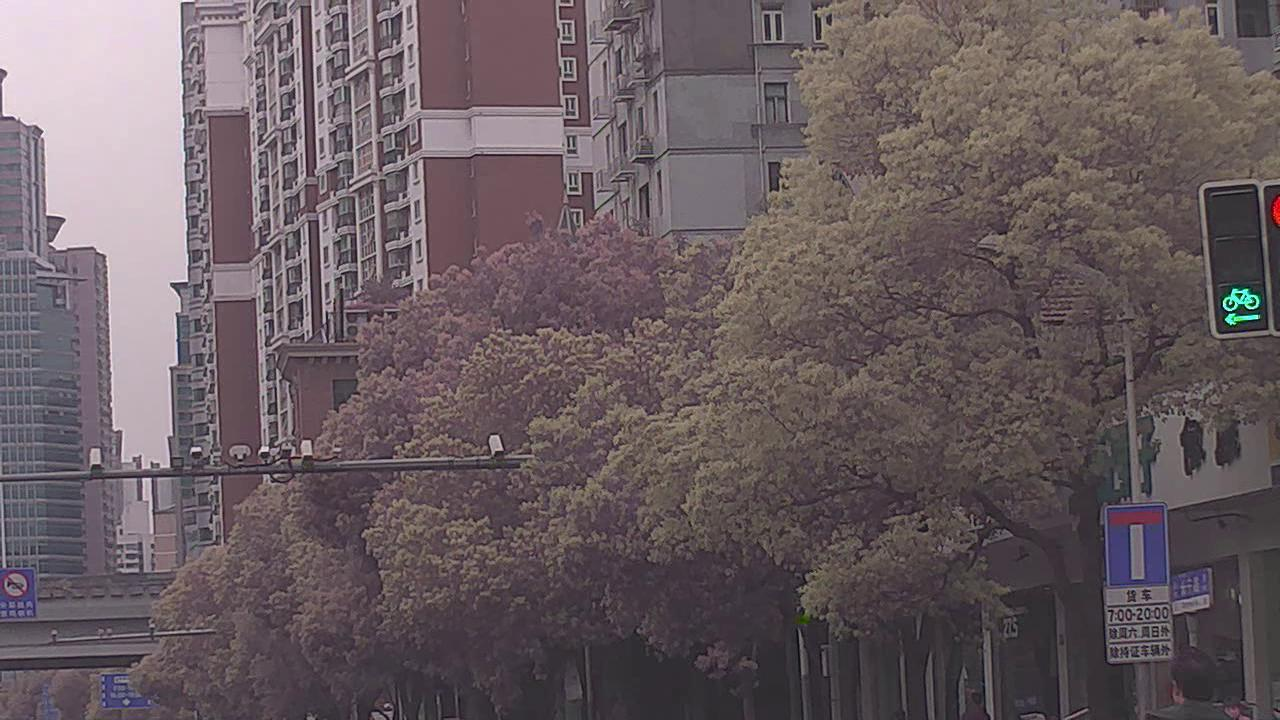traffic_light: (1202, 187, 1278, 335)
